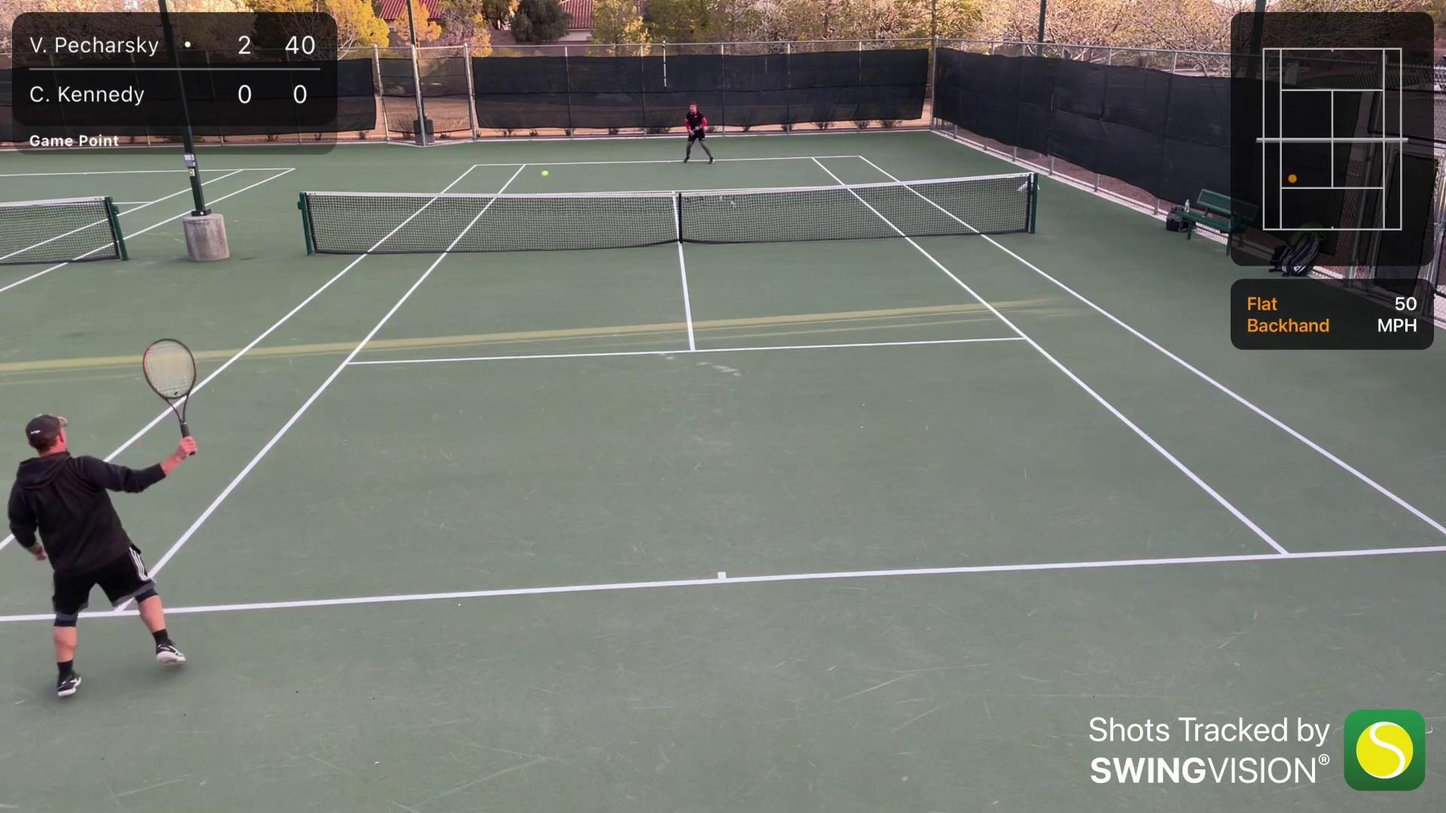ball: (539, 168, 551, 179)
